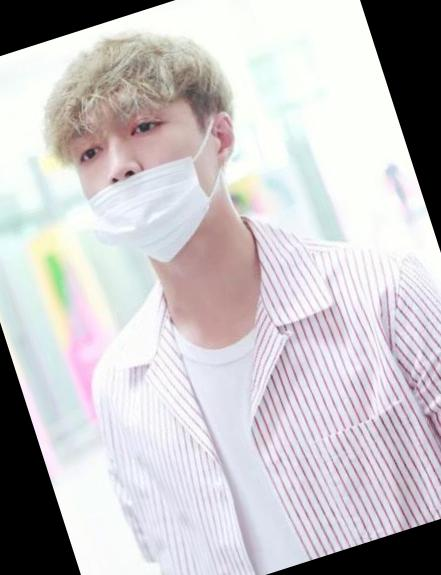mask_weared_incorrect: (60, 96, 239, 285)
